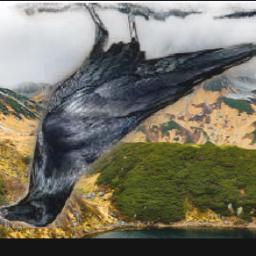Crow: (0, 4, 256, 229)
